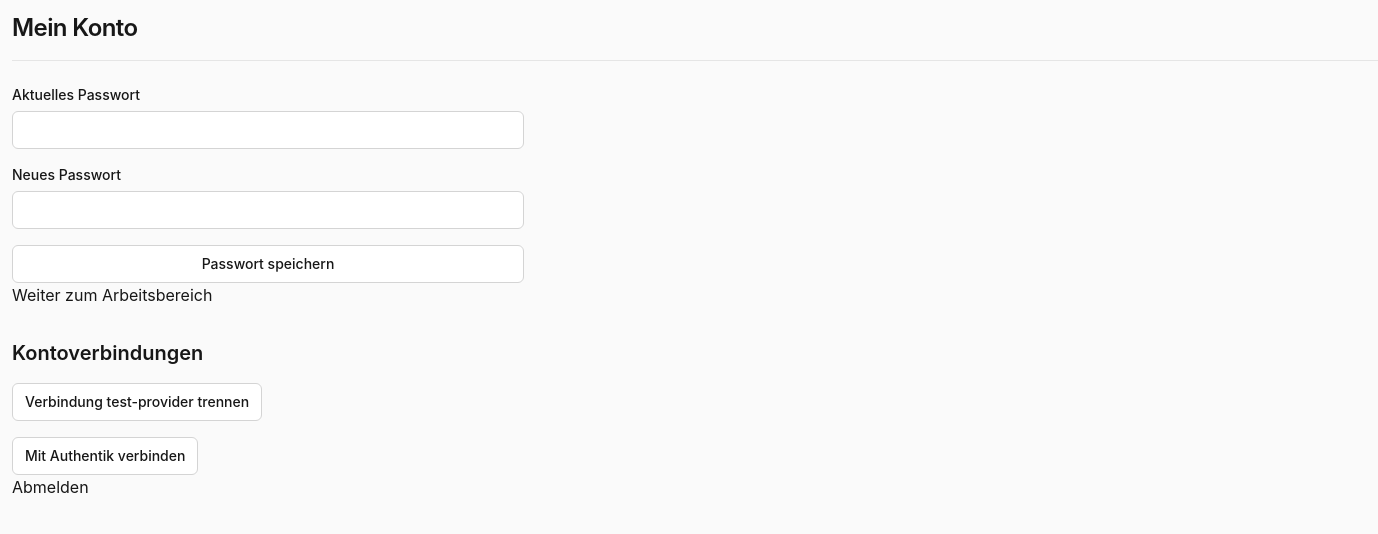
Test: personal account › requires current password and explains last-login protection in German
Click the button "Verbindung test-provider trennen" at (137, 402), box [12,383,262,421]
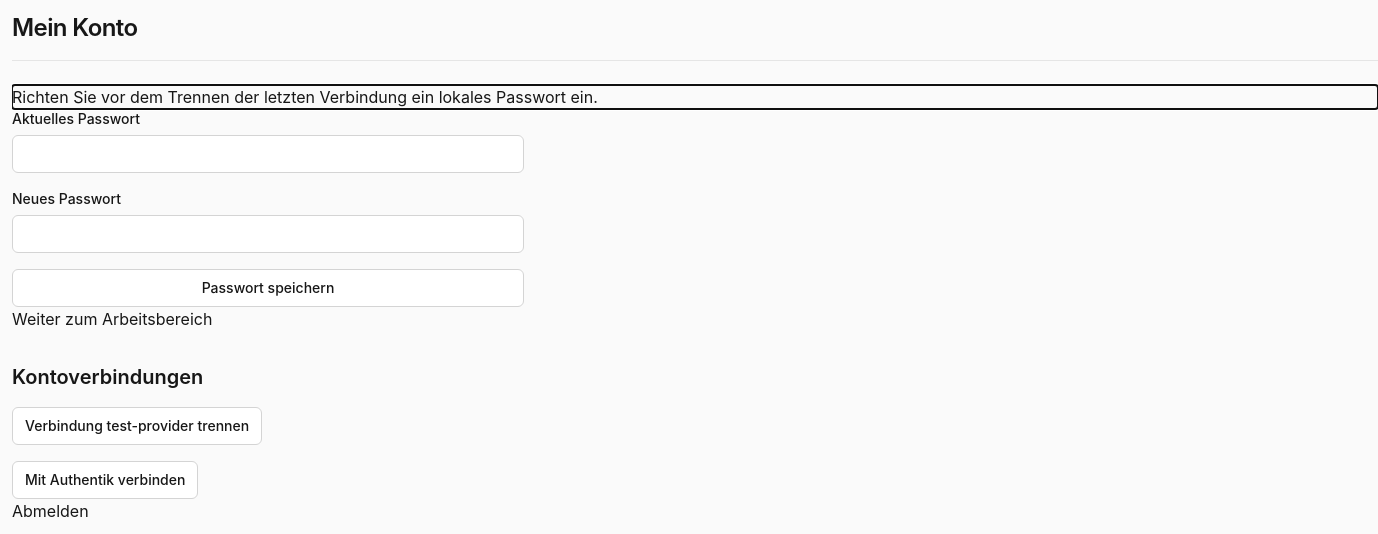
Result: the message reads "Richten Sie vor dem Trennen der letzten Verbindung ein lokales Passwort ein." at [12,87,598,107]
